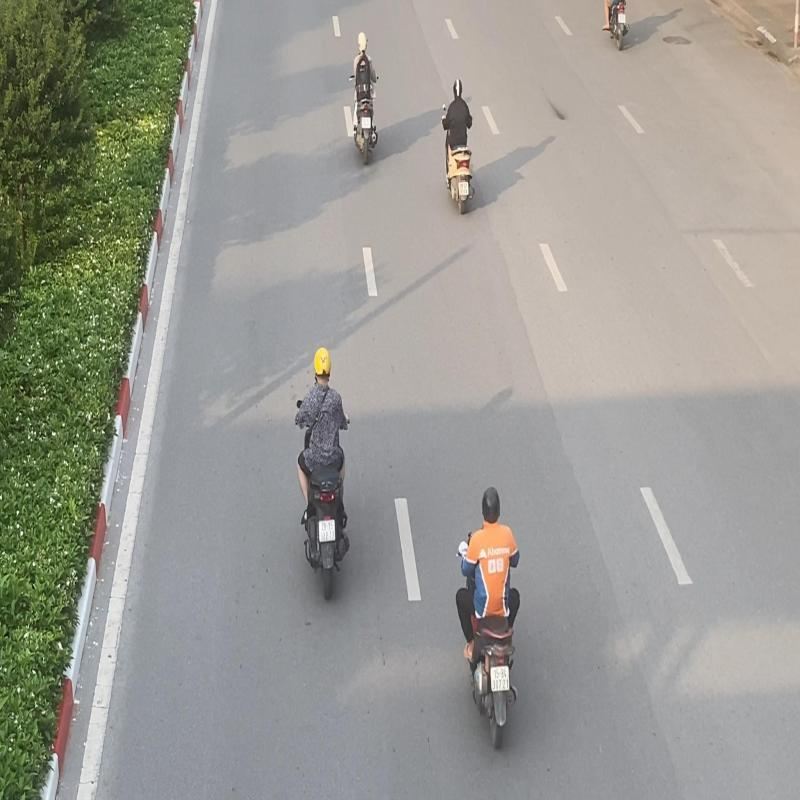helmet: (480, 485, 502, 523), (314, 347, 332, 381), (358, 32, 368, 54), (453, 78, 463, 98)
licenseplate: (489, 665, 511, 692), (318, 518, 336, 543), (458, 182, 469, 196), (361, 117, 371, 129)
motorcyclist: (455, 484, 522, 749), (293, 344, 351, 603), (441, 78, 475, 216), (348, 31, 378, 166)
